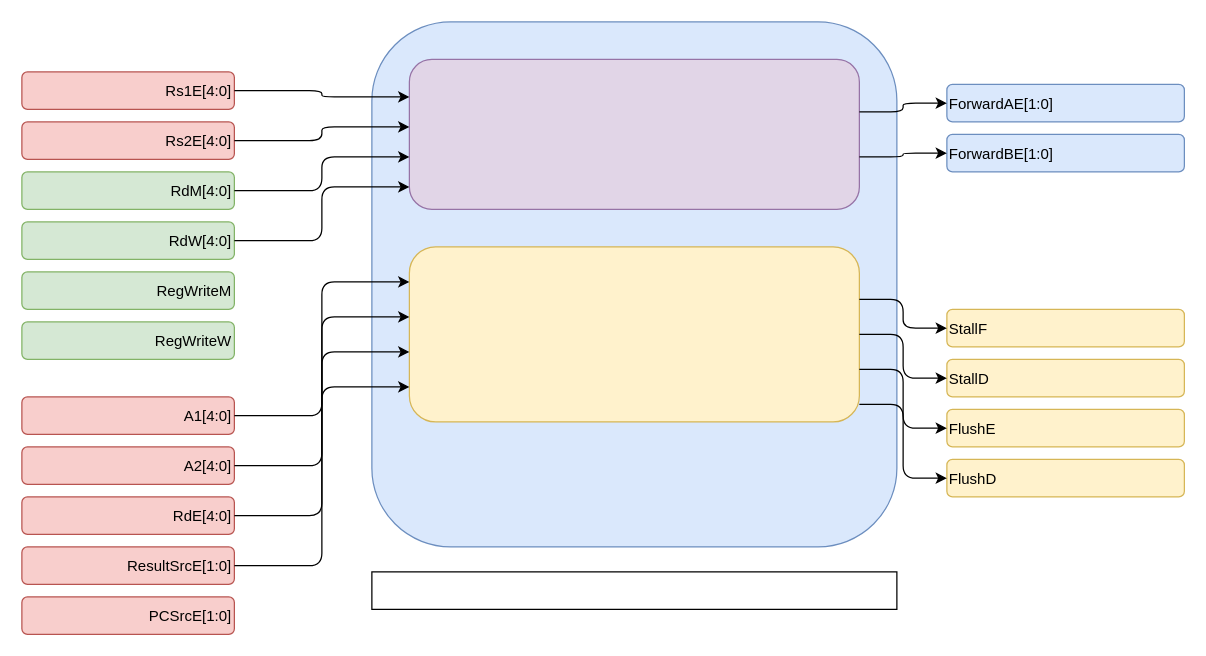
Image size: 1206x656. Some labels were removed from this diagram. The centre of each missing label's shape, as x and y in pixels:
"Forwarding Logic (EX) Compare RsE vs RdM/RdW Priority: MEM > WB" belongs at point 633,133.
"Hazard Detection & Forwarding Unit" belongs at point 634,590.
"Hazard Detection Logic Load-Use Stall Branch / Jump Flush" belongs at point 633,334.
